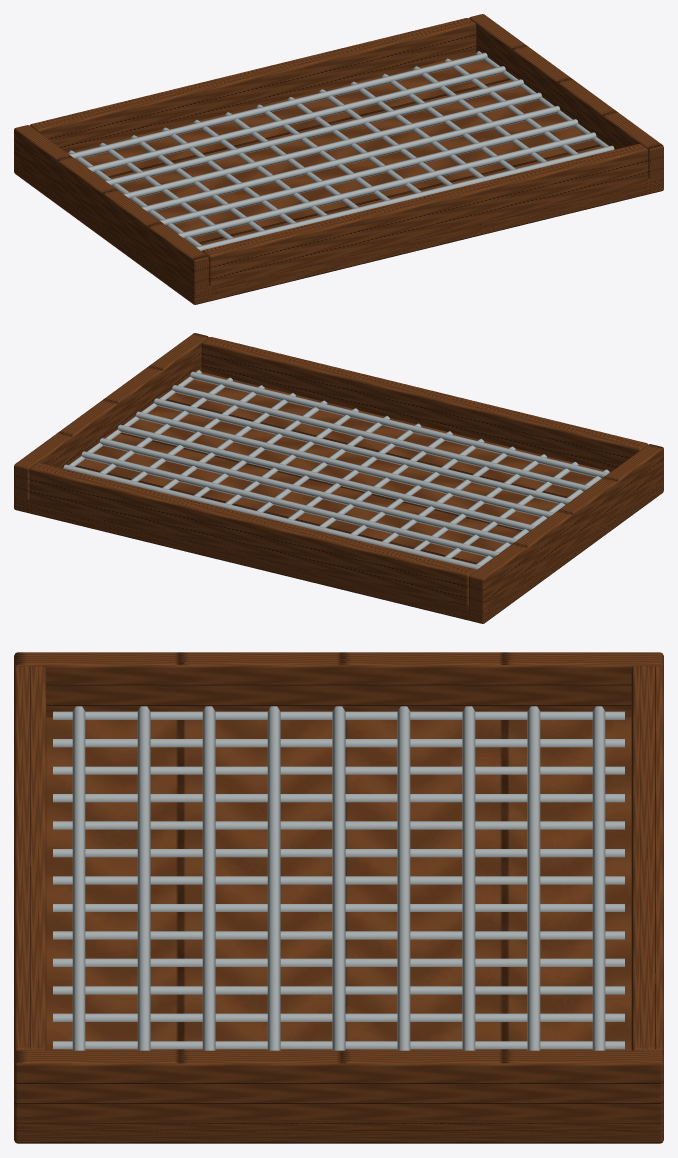
The model's file is survival-greenhouse-and-irrigation-compost-sieve-b267e892__21343.glb.
3 views of the same model, one above another, from view 1: azimuth 30°, elevation 25°; view 2: azimuth 150°, elevation 25°; view 3: azimuth 270°, elevation 25° (orthographic). The views are drawn at different scales.
Parts seen in each view (by area): view 1: compost-sieve; view 2: compost-sieve; view 3: compost-sieve.
Part boxes in pixels (left/top/right/bottom): compost-sieve: left=14, top=14, right=663, bottom=304; compost-sieve: left=14, top=333, right=663, bottom=623; compost-sieve: left=14, top=652, right=663, bottom=1143.
Size of the model in its own units: 0.75 by 0.0699 by 0.5.
Materials: 2 (1 with a texture image).
